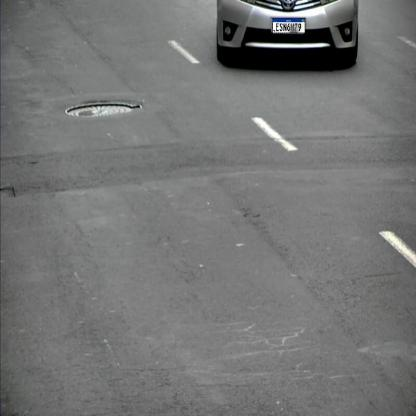PlacaM: (272, 18, 306, 33)
